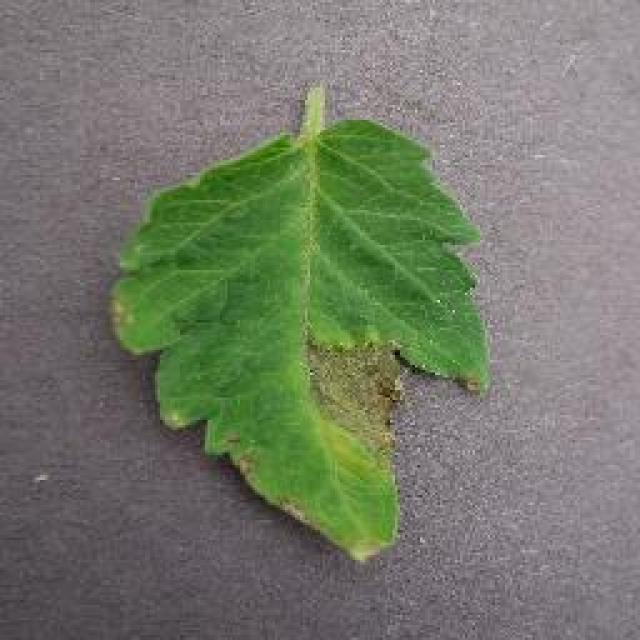Tomato late blight leaf: (111, 114, 494, 564)
